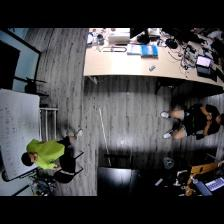normal: (22, 127, 83, 171), (161, 105, 224, 141)
